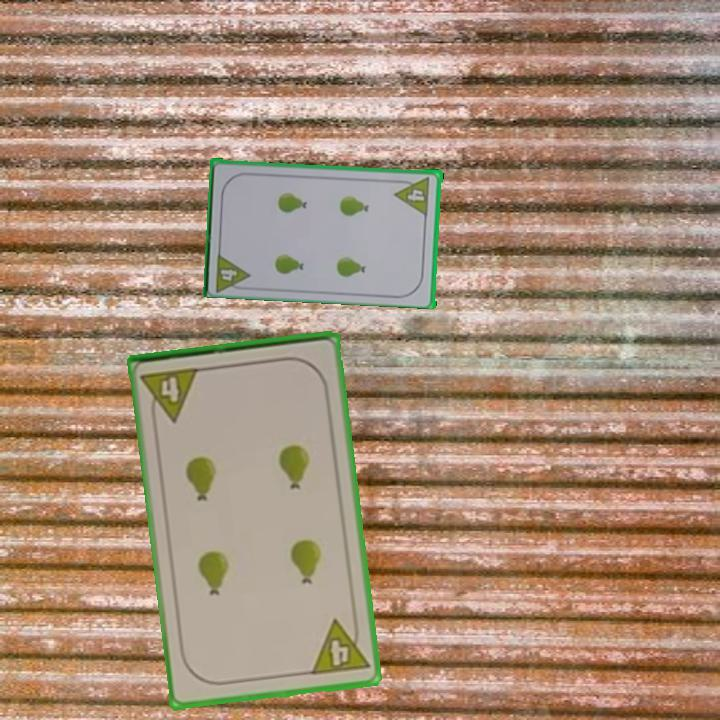4p: (307, 614, 372, 679), (137, 364, 202, 426), (392, 184, 429, 217), (217, 265, 240, 283)
